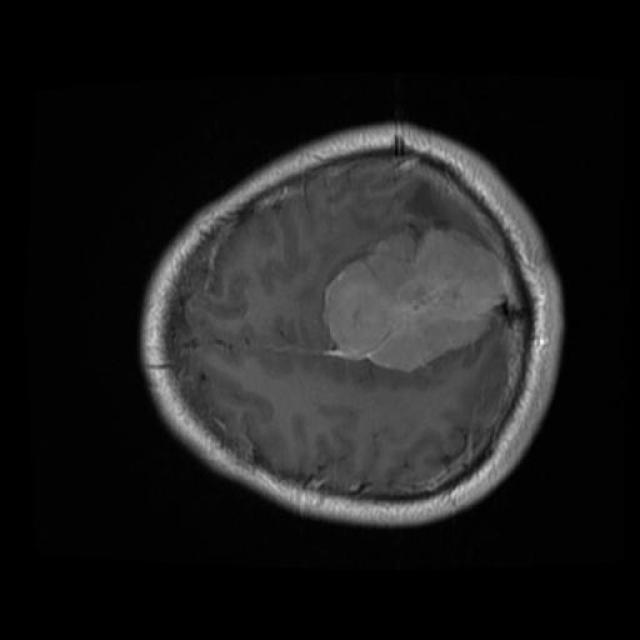Meningioma: (323, 225, 511, 372)
